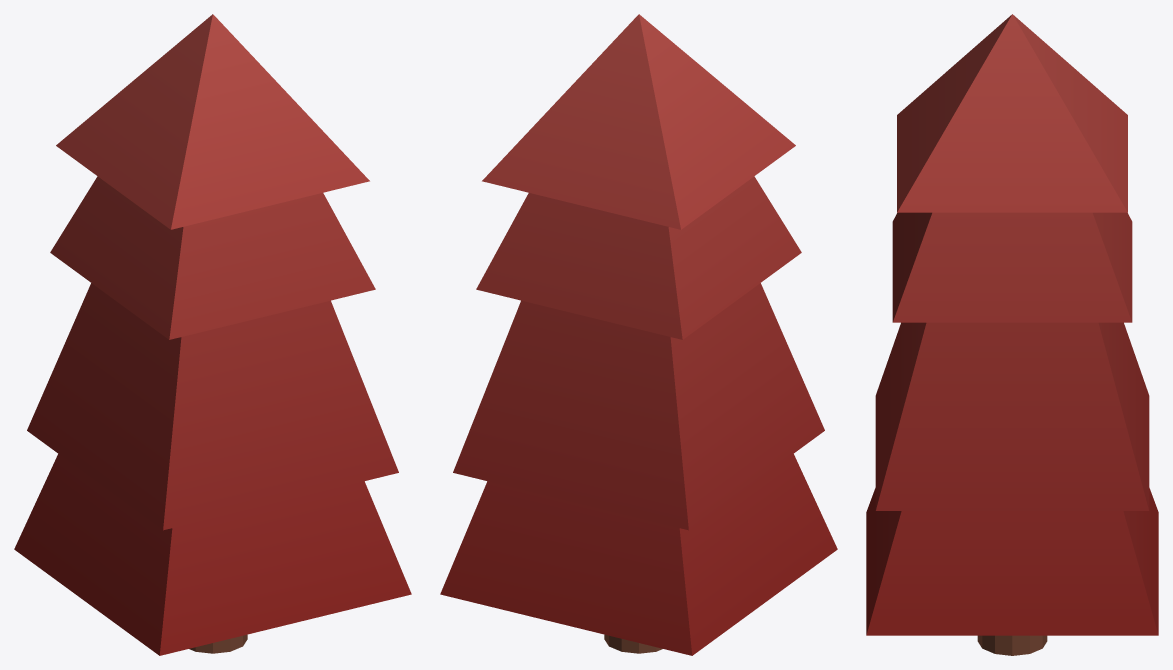
The model's file is Tree_17_gradient_red_vc.fbx.
The picture shows the model from 3 angles, left to right: view 1: azimuth 30°, elevation 25°; view 2: azimuth 150°, elevation 25°; view 3: azimuth 270°, elevation 25°; orthographic projection.
Parts seen in each view (by area): view 1: Tree_17_gradient_red_vc; view 2: Tree_17_gradient_red_vc; view 3: Tree_17_gradient_red_vc.
Part boxes in pixels (x1,y1,x2,y2): Tree_17_gradient_red_vc: (14,14,411,655); Tree_17_gradient_red_vc: (440,14,837,655); Tree_17_gradient_red_vc: (866,14,1158,655).
Bounding box in the file's own units: 65.5 × 155 × 65.5.
